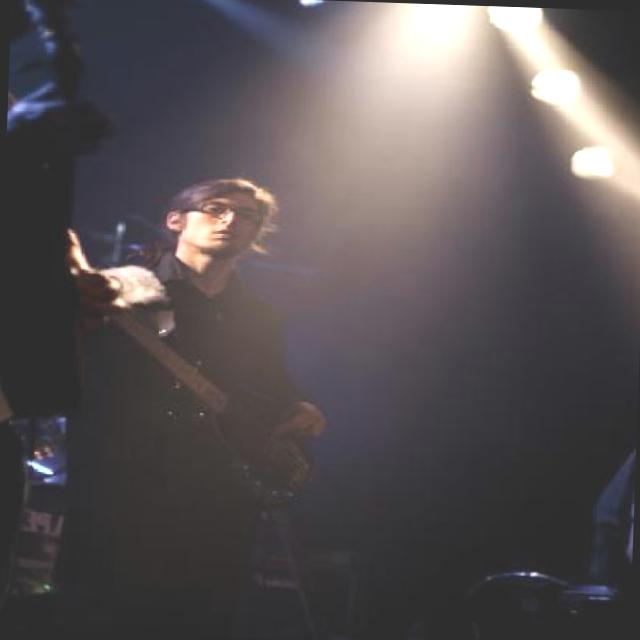Person: (55, 146, 318, 536)
